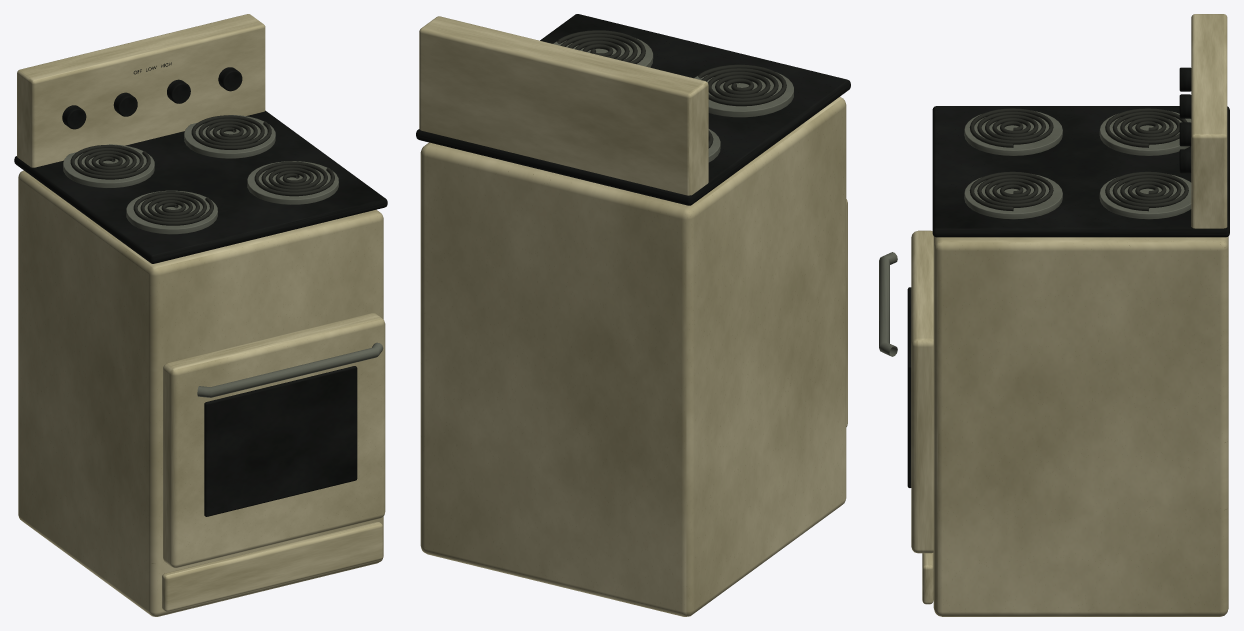
File: stove.glb
3 renders of one model, left to right at view 1: azimuth 30°, elevation 25°; view 2: azimuth 150°, elevation 25°; view 3: azimuth 270°, elevation 25°, orthographic. The views are drawn at different scales.
Visible parts, largest first — view 1: Enamel range cabinet, Oven door, Back control riser, Black cooktop, Oven dark window, Bottom storage drawer, Oven handle, Electric spiral burner.003, Electric spiral burner.002, Electric spiral burner.001, Electric spiral burner, Burner drip tray.002 (+3 smaller); view 2: Enamel range cabinet, Back control riser, Black cooktop, Electric spiral burner, Electric spiral burner.002, Burner drip tray; view 3: Enamel range cabinet, Black cooktop, Back control riser, Oven door, Electric spiral burner, Electric spiral burner.002, Electric spiral burner.003, Electric spiral burner.001, Burner drip tray, Burner drip tray.002, Burner drip tray.003, Burner drip tray.001 (+3 smaller).
Part boxes in pixels (bbox=[...]): Enamel range cabinet: bbox=[18, 170, 383, 616]; Oven door: bbox=[163, 313, 385, 567]; Back control riser: bbox=[17, 14, 265, 167]; Black cooktop: bbox=[14, 110, 387, 263]; Oven dark window: bbox=[204, 366, 357, 516]; Bottom storage drawer: bbox=[162, 521, 382, 611]; Oven handle: bbox=[197, 342, 383, 397]; Electric spiral burner.003: bbox=[191, 115, 271, 149]; Electric spiral burner.002: bbox=[254, 161, 334, 196]; Electric spiral burner.001: bbox=[70, 145, 150, 179]; Electric spiral burner: bbox=[133, 191, 213, 225]; Burner drip tray.002: bbox=[247, 161, 338, 204]; Enamel range cabinet: bbox=[420, 97, 846, 616]; Back control riser: bbox=[419, 16, 708, 195]; Black cooktop: bbox=[416, 14, 850, 205]; Electric spiral burner: bbox=[698, 64, 786, 106]; Electric spiral burner.002: bbox=[557, 30, 645, 63]; Burner drip tray: bbox=[694, 72, 793, 117]; Enamel range cabinet: bbox=[933, 236, 1228, 616]; Black cooktop: bbox=[932, 106, 1229, 237]; Back control riser: bbox=[1191, 14, 1227, 228]; Oven door: bbox=[911, 230, 933, 553]; Electric spiral burner: bbox=[969, 108, 1053, 147]; Electric spiral burner.002: bbox=[969, 171, 1053, 211]; Electric spiral burner.003: bbox=[1105, 171, 1188, 211]; Electric spiral burner.001: bbox=[1105, 108, 1187, 147]; Burner drip tray: bbox=[964, 111, 1062, 155]; Burner drip tray.002: bbox=[964, 174, 1062, 219]; Burner drip tray.003: bbox=[1099, 174, 1191, 219]; Burner drip tray.001: bbox=[1099, 111, 1191, 155].
Bounding box in the file's own units: 0.608 × 1.11 × 0.7256.
4 materials, 3 textured.
